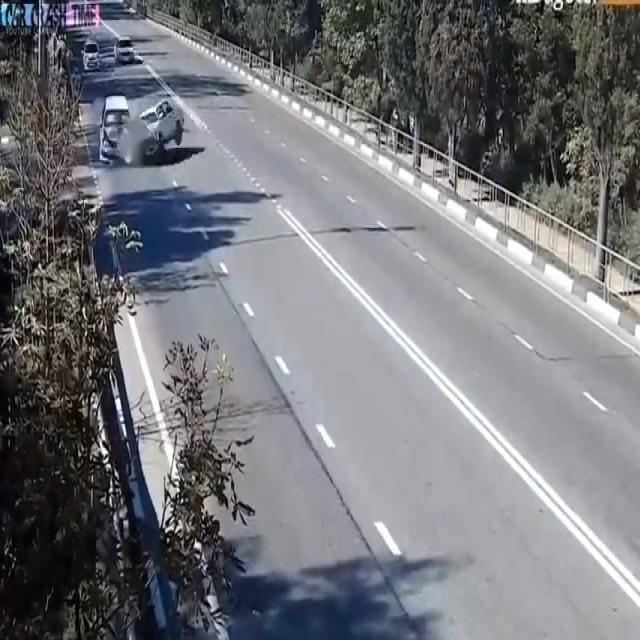Accident: (106, 86, 180, 180)
